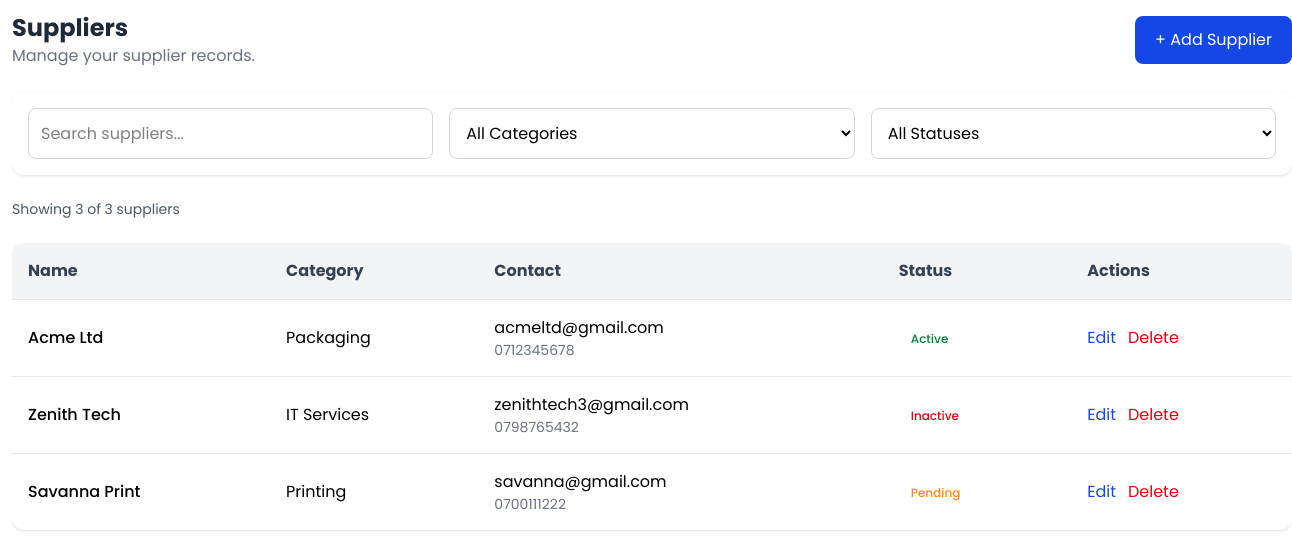
it: Suppliers Page › combines search and status filters
Step 1. Type "Acme" into the search field labelled "Search suppliers..." → [231, 134], box [28,108,433,159]
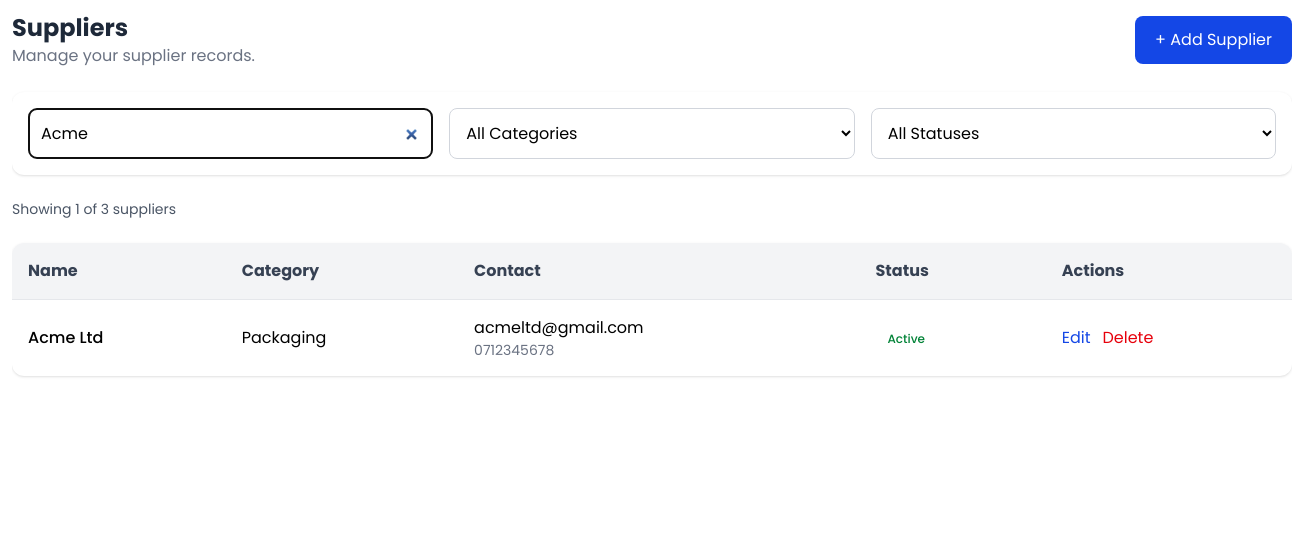
Step 2. Select "Inactive" in the dropdown named "filter by status" → [1073, 134], box [871,108,1276,159]
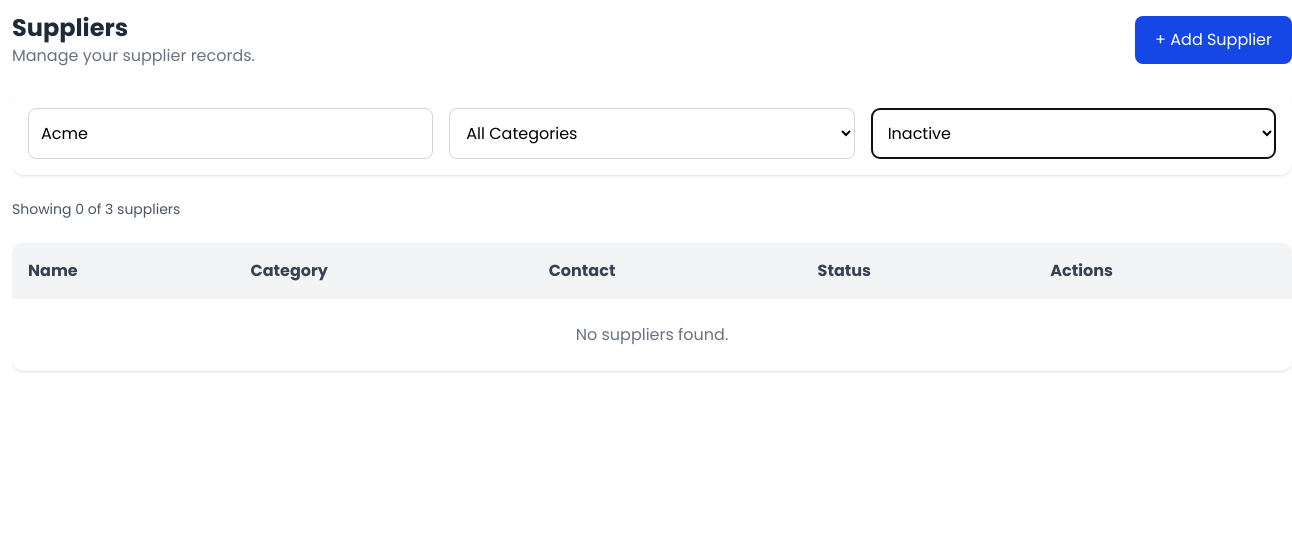
Result: the text "Acme Ltd" is gone
Result: the text "Showing 0 of 3 suppliers" is shown at [12,199,180,219]
